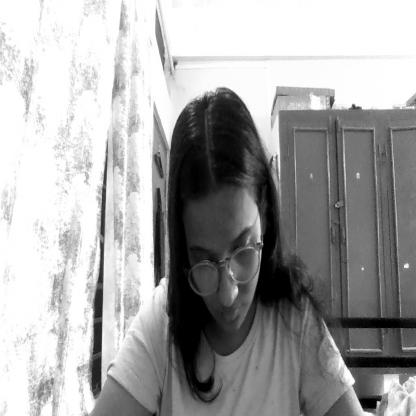Distracted: (166, 112, 274, 350)
